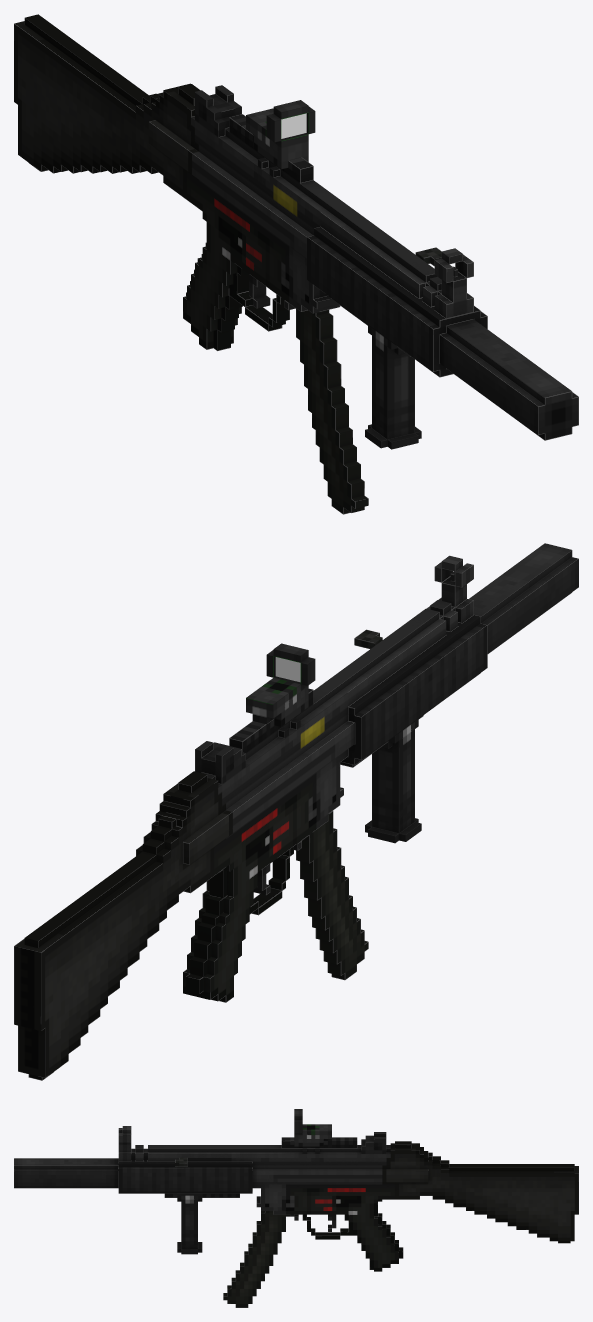
The picture shows the model from 3 angles, top to bottom: view 1: azimuth 30°, elevation 25°; view 2: azimuth 150°, elevation 25°; view 3: azimuth 270°, elevation 25°; orthographic projection. The views are drawn at different scales.
Parts seen in each view (by area): view 1: HK_MP5SD_BODY, HK_MP5SD_CLIP, GRIP_4X4_M1, SCOPE_AIMPOINT; view 2: HK_MP5SD_BODY, HK_MP5SD_CLIP, GRIP_4X4_M1, SCOPE_AIMPOINT; view 3: HK_MP5SD_BODY, HK_MP5SD_CLIP, GRIP_4X4_M1, SCOPE_AIMPOINT.
Part boxes in pixels (x1=…): HK_MP5SD_BODY: x1=14, y1=14, x2=578, y2=440; HK_MP5SD_CLIP: x1=292, y1=306, x2=368, y2=514; GRIP_4X4_M1: x1=365, y1=325, x2=421, y2=449; SCOPE_AIMPOINT: x1=246, y1=100, x2=315, y2=169; HK_MP5SD_BODY: x1=14, y1=543, x2=578, y2=1080; HK_MP5SD_CLIP: x1=296, y1=811, x2=368, y2=980; GRIP_4X4_M1: x1=365, y1=719, x2=421, y2=843; SCOPE_AIMPOINT: x1=246, y1=643, x2=315, y2=726; HK_MP5SD_BODY: x1=14, y1=1126, x2=578, y2=1271; HK_MP5SD_CLIP: x1=223, y1=1211, x2=290, y2=1307; GRIP_4X4_M1: x1=177, y1=1193, x2=202, y2=1254; SCOPE_AIMPOINT: x1=294, y1=1109, x2=331, y2=1146.
Bounding box in the file's own units: 0.0985 × 0.502 × 1.33.
Materials: 4 (3 with a texture image).
